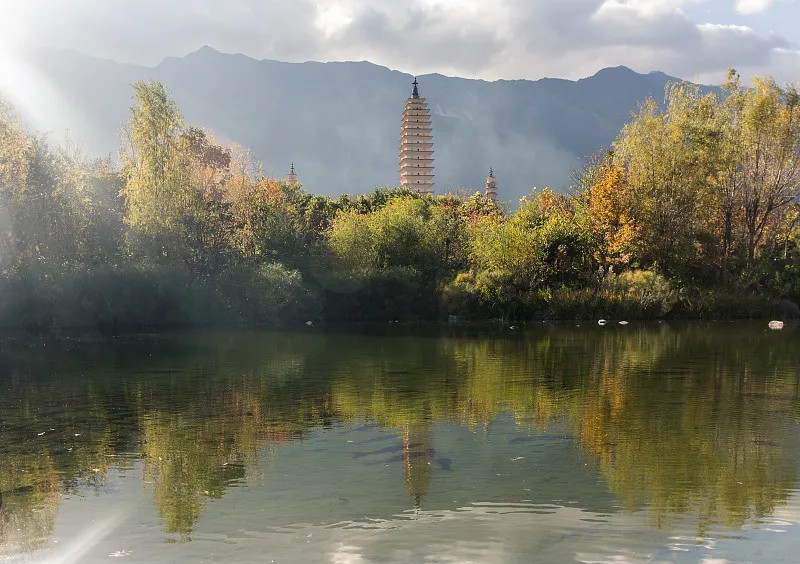ThreePagoda: (398, 77, 435, 195)
